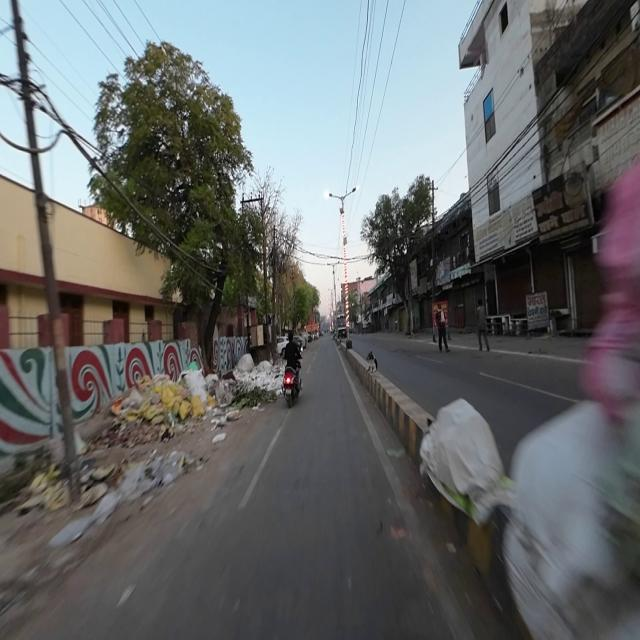Garbage: (112, 448, 188, 510), (124, 383, 194, 432), (233, 357, 279, 392), (186, 373, 215, 412), (214, 378, 236, 406), (213, 407, 245, 425), (212, 432, 230, 446)
